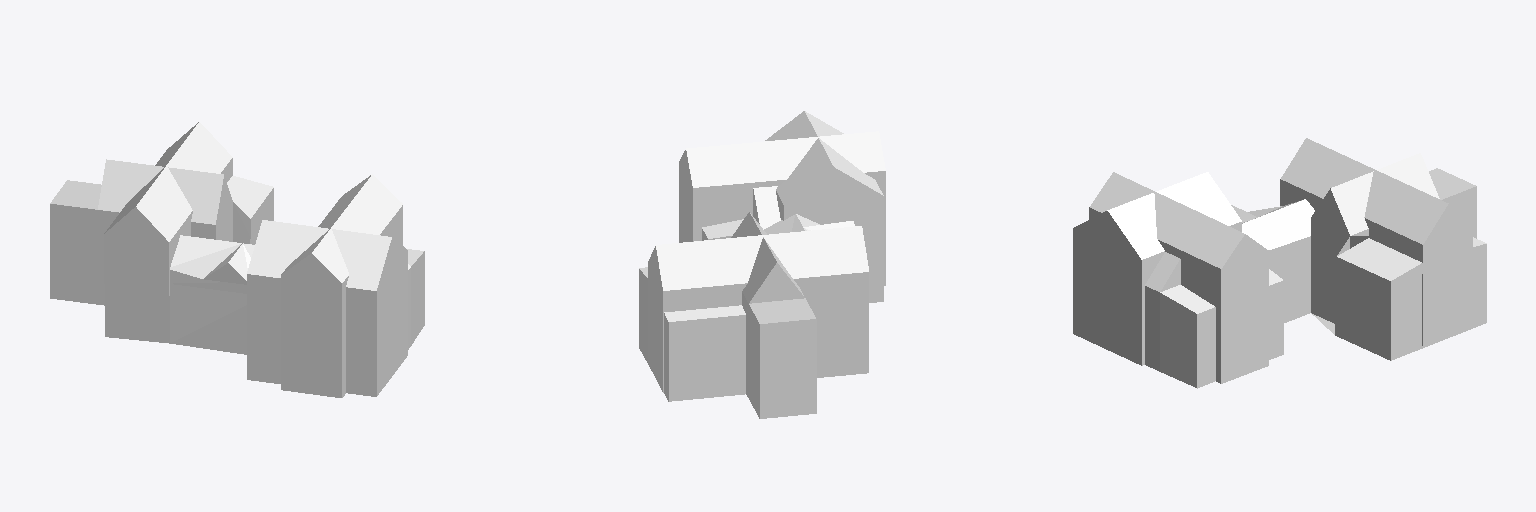
The model's file is house_Shape 235.obj.
3 renders of one model, left to right at view 1: azimuth 30°, elevation 25°; view 2: azimuth 150°, elevation 25°; view 3: azimuth 270°, elevation 25°, orthographic.
Parts seen in each view (by area): view 1: CityEngineMaterial_136, CityEngineMaterial_38, CityEngineMaterial_134, CityEngineMaterial_135, CityEngineMaterial_133; view 2: CityEngineMaterial_38, CityEngineMaterial_136, CityEngineMaterial_135, CityEngineMaterial_133; view 3: CityEngineMaterial_136, CityEngineMaterial_38, CityEngineMaterial_135, CityEngineMaterial_133.
Boxes of the visible parts, x1,y1,x2,y2 form: CityEngineMaterial_136: [104, 175, 424, 397]; CityEngineMaterial_38: [98, 122, 423, 290]; CityEngineMaterial_134: [50, 237, 376, 397]; CityEngineMaterial_135: [50, 158, 402, 336]; CityEngineMaterial_133: [50, 180, 101, 209]; CityEngineMaterial_38: [639, 111, 885, 321]; CityEngineMaterial_136: [639, 150, 883, 418]; CityEngineMaterial_135: [639, 167, 885, 356]; CityEngineMaterial_133: [749, 298, 815, 323]; CityEngineMaterial_136: [1073, 188, 1486, 388]; CityEngineMaterial_38: [1090, 138, 1486, 313]; CityEngineMaterial_135: [1089, 179, 1486, 326]; CityEngineMaterial_133: [1311, 168, 1475, 334].
Size of the model in its own units: 19.55 by 10.35 by 27.53.